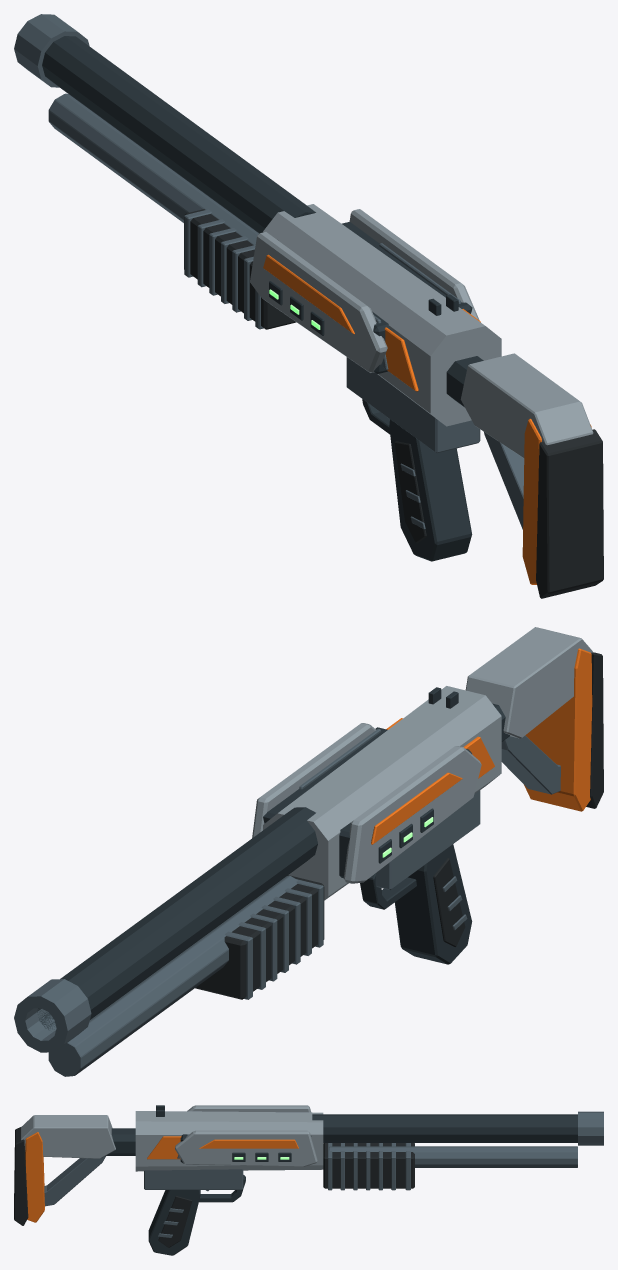
Rendered from levershotgun.glb.
3 views of the same model, one above another, from view 1: azimuth 30°, elevation 25°; view 2: azimuth 150°, elevation 25°; view 3: azimuth 270°, elevation 25° (orthographic). The views are drawn at different scales.
Parts seen in each view (by area): view 1: Body | 01 | ceramic gray receiver, Body | 03 | graphite steel, Body | 05 | charcoal grip polymer, Body | 02 | machined edge metal, Magazine | 02 | machined edge metal, Body | 04 | burnt orange enamel; view 2: Body | 01 | ceramic gray receiver, Body | 03 | graphite steel, Body | 02 | machined edge metal, Magazine | 02 | machined edge metal, Body | 05 | charcoal grip polymer, Body | 04 | burnt orange enamel; view 3: Body | 01 | ceramic gray receiver, Body | 03 | graphite steel, Body | 02 | machined edge metal, Body | 05 | charcoal grip polymer, Magazine | 02 | machined edge metal, Body | 04 | burnt orange enamel.
Boxes of the visible parts, <box> form: Body | 01 | ceramic gray receiver: <box>250,204,593,457</box>; Body | 03 | graphite steel: <box>42,36,483,561</box>; Body | 05 | charcoal grip polymer: <box>184,209,603,598</box>; Body | 02 | machined edge metal: <box>14,14,524,529</box>; Magazine | 02 | machined edge metal: <box>48,93,258,245</box>; Body | 04 | burnt orange enamel: <box>263,254,591,584</box>; Body | 01 | ceramic gray receiver: <box>252,627,593,900</box>; Body | 03 | graphite steel: <box>37,687,509,1030</box>; Body | 02 | machined edge metal: <box>14,729,560,1052</box>; Magazine | 02 | machined edge metal: <box>48,875,297,1076</box>; Body | 05 | charcoal grip polymer: <box>195,652,603,999</box>; Body | 04 | burnt orange enamel: <box>371,648,592,844</box>; Body | 01 | ceramic gray receiver: <box>21,1105,323,1171</box>; Body | 03 | graphite steel: <box>106,1105,577,1255</box>; Body | 02 | machined edge metal: <box>44,1111,603,1237</box>; Body | 05 | charcoal grip polymer: <box>14,1127,414,1247</box>; Magazine | 02 | machined edge metal: <box>329,1146,577,1167</box>; Body | 04 | burnt orange enamel: <box>25,1132,298,1222</box>.
Bounding box in the file's own units: 0.132 × 0.2856 × 1.07.
